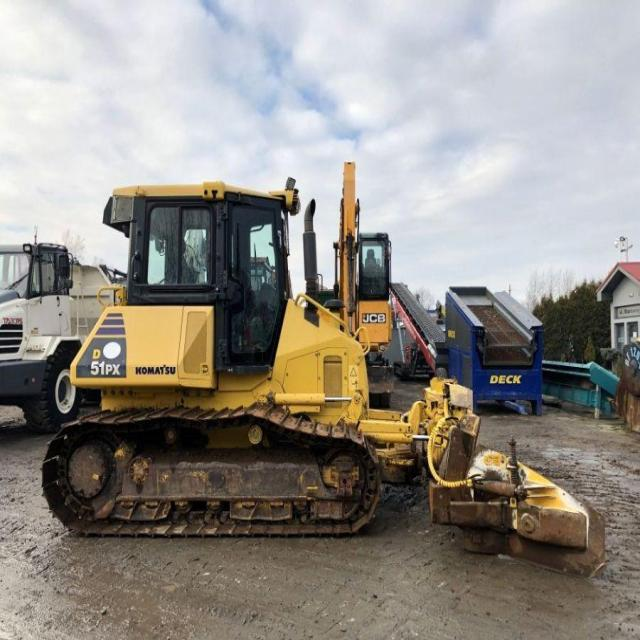buldozerpayloadergrader: (40, 126, 630, 585)
